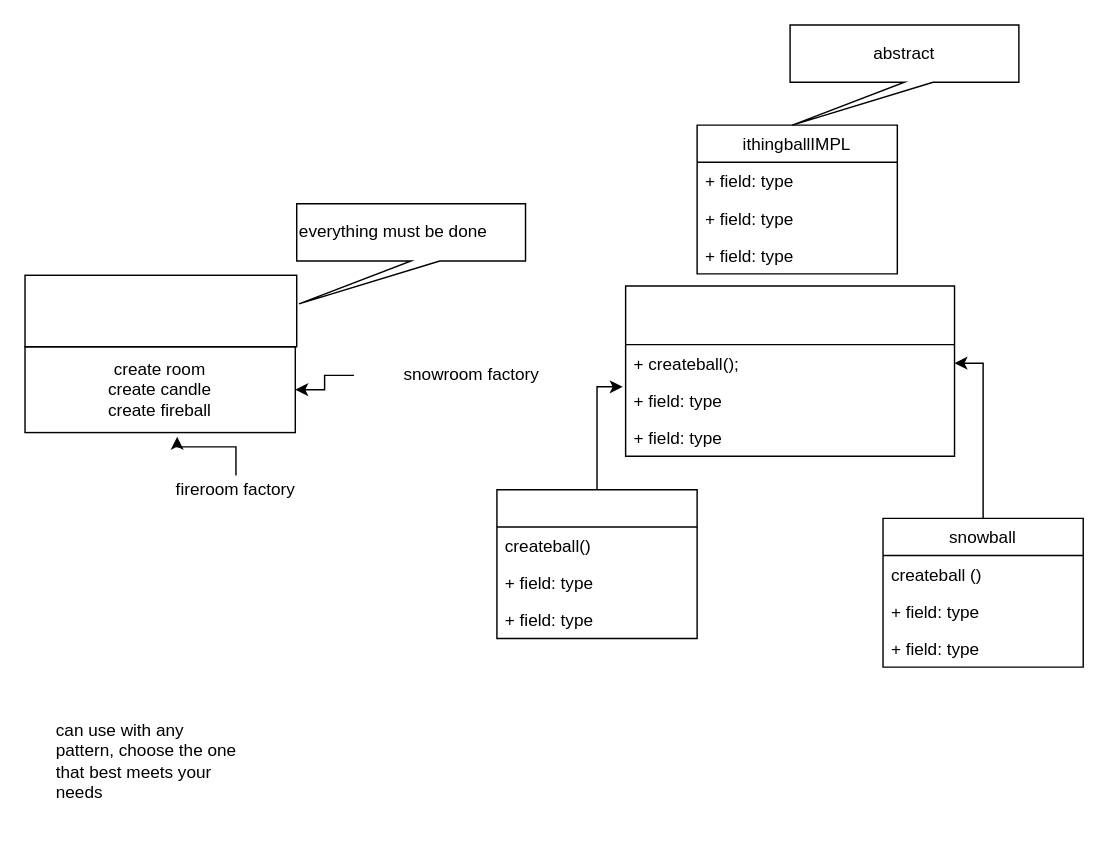
The diagram is 1108 pixels wide and 844 high, and some of its shapes have lost their labels. Here are the shapes that lost their labels. From the top down, the box of each, then its label:
(24, 274, 297, 347): interface room factory abstract factory
(624, 285, 955, 456): thingfileball common things here factory method
(495, 488, 697, 638): fireball
